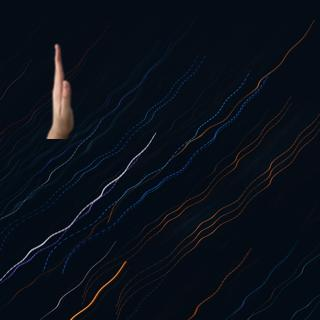Right: (35, 43, 80, 145)
